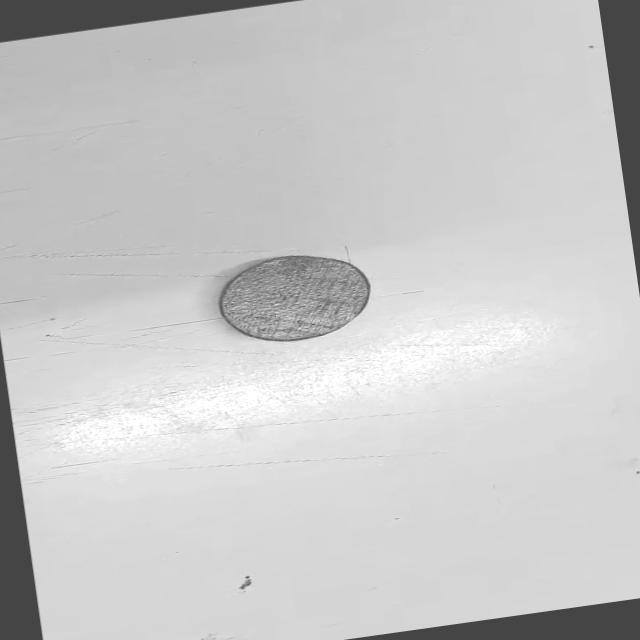rcircle: (218, 255, 370, 342)
